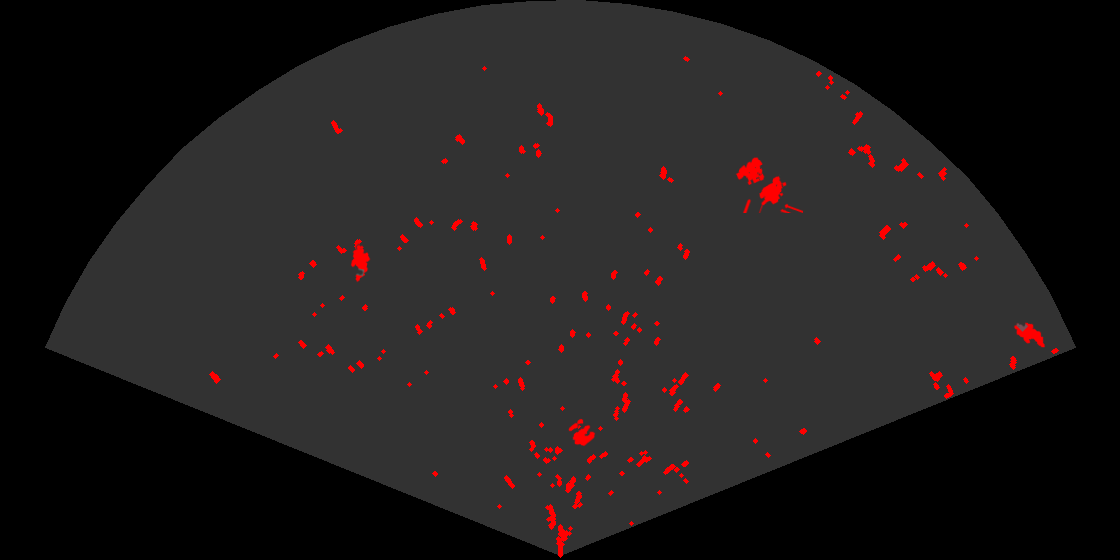AUV: (1012, 321, 1047, 349), (349, 243, 372, 284)
ball: (567, 417, 597, 448)
cage: (734, 156, 803, 213)
